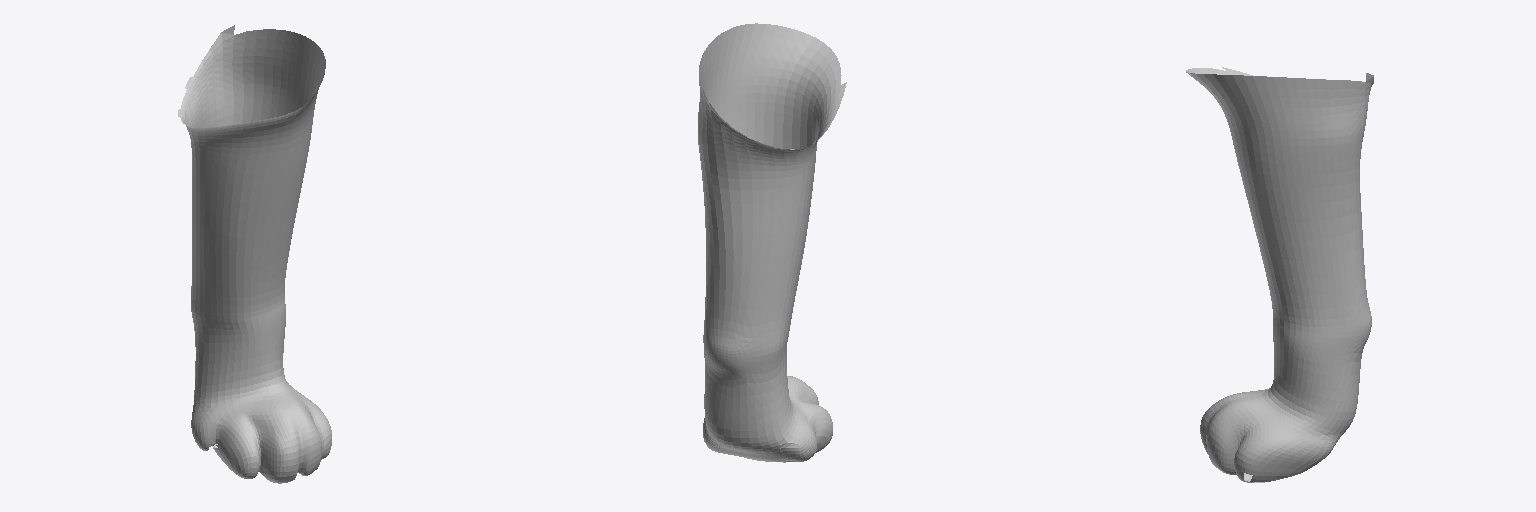
File: p__t_derecha.obj
3 renders of one model, left to right at view 1: azimuth 30°, elevation 25°; view 2: azimuth 150°, elevation 25°; view 3: azimuth 270°, elevation 25°, orthographic.
Parts seen in each view (by area): view 1: p_d_derecha; view 2: p_d_derecha; view 3: p_d_derecha.
Part boxes in pixels (bbox=[...]): p_d_derecha: bbox=[178, 25, 331, 483]; p_d_derecha: bbox=[698, 23, 846, 462]; p_d_derecha: bbox=[1186, 67, 1373, 482].
Bounding box in the file's own units: 4.57 × 14.74 × 6.14.